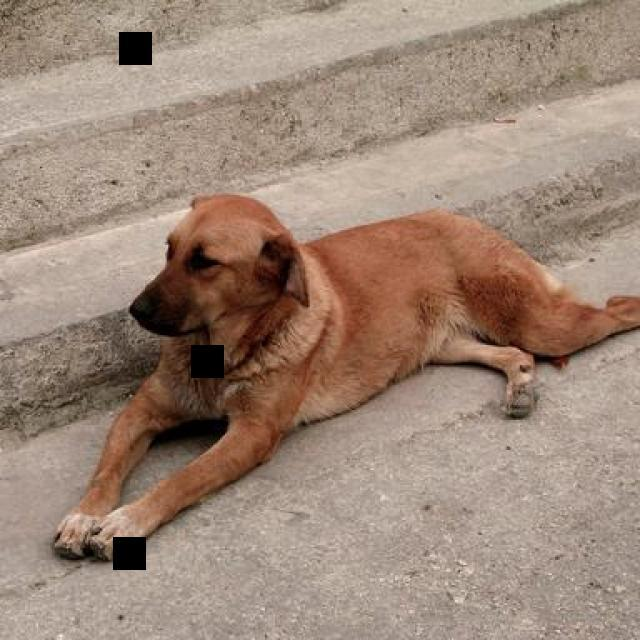adult_dog: (46, 193, 640, 570)
